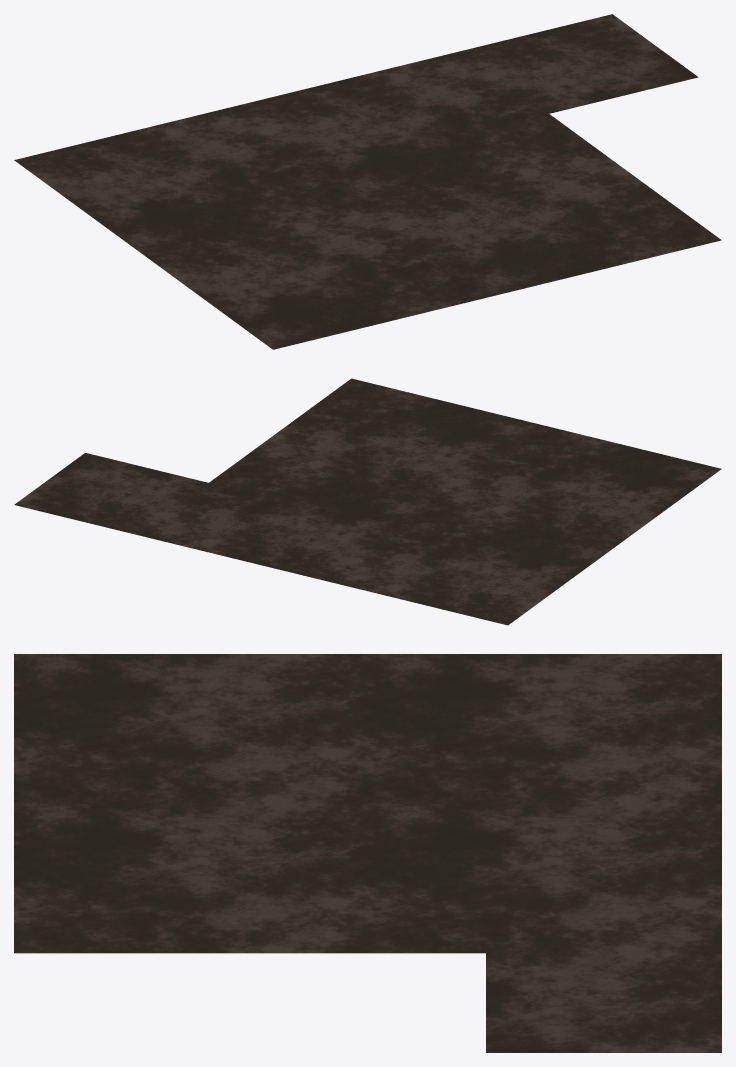
Rendered from floor_0_0.glb.
The picture shows the model from 3 angles, top to bottom: view 1: azimuth 30°, elevation 25°; view 2: azimuth 150°, elevation 25°; view 3: azimuth 270°, elevation 25°; orthographic projection. The views are drawn at different scales.
Parts seen in each view (by area): view 1: floor_0_0; view 2: floor_0_0; view 3: floor_0_0.
Part boxes in pixels (bbox=[...]): floor_0_0: bbox=[14, 14, 721, 349]; floor_0_0: bbox=[14, 378, 721, 625]; floor_0_0: bbox=[14, 654, 721, 1052].
Bounding box in the file's own units: 16 × 0 × 12.
1 material, 1 textured.
